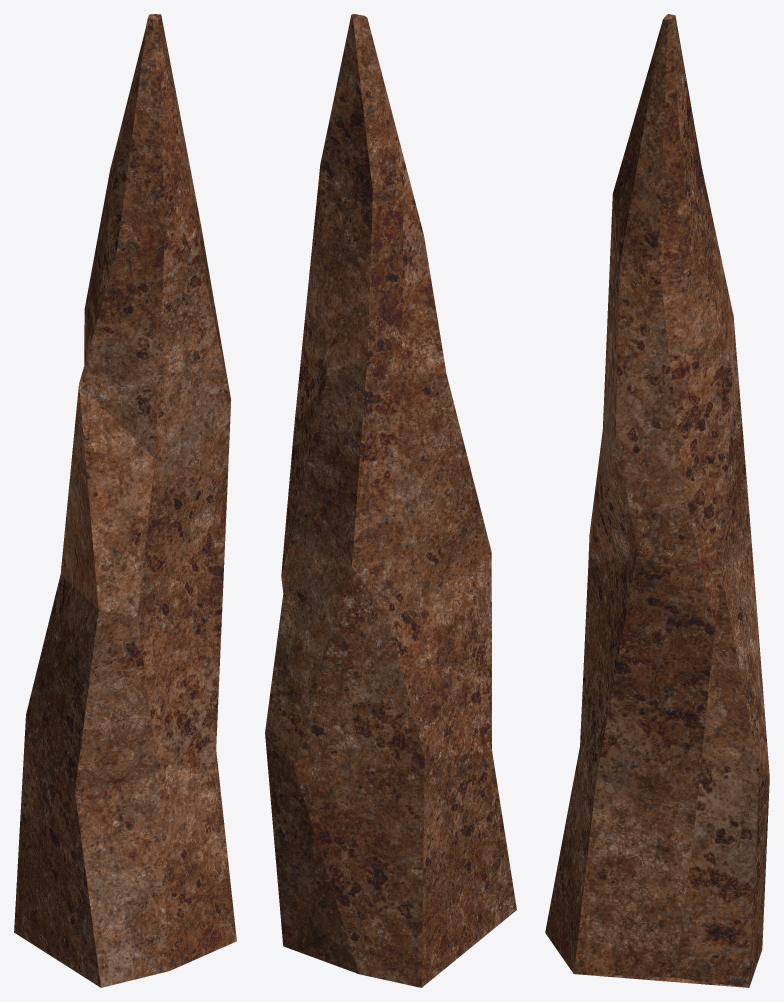
The model's file is rock3.glb.
3 views of the same model, side by side, from view 1: azimuth 30°, elevation 25°; view 2: azimuth 150°, elevation 25°; view 3: azimuth 270°, elevation 25° (orthographic). The views are drawn at different scales.
Parts seen in each view (by area): view 1: Stal03; view 2: Stal03; view 3: Stal03.
Boxes of the visible parts, x1,y1,x2,y2 form: Stal03: [14, 14, 236, 987]; Stal03: [265, 14, 516, 987]; Stal03: [545, 14, 769, 987].
Bounding box in the file's own units: 0.4789 × 2.56 × 0.5423.
1 material, 1 textured.
